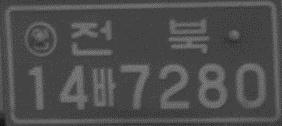0: (234, 61, 267, 109)
1: (24, 63, 53, 111)
2: (157, 62, 190, 110)
4: (57, 65, 88, 109)
7: (119, 63, 150, 110)
8: (196, 63, 228, 109)
바: (91, 67, 116, 108)
영: (23, 20, 57, 57)
전북_D: (69, 18, 210, 55)
